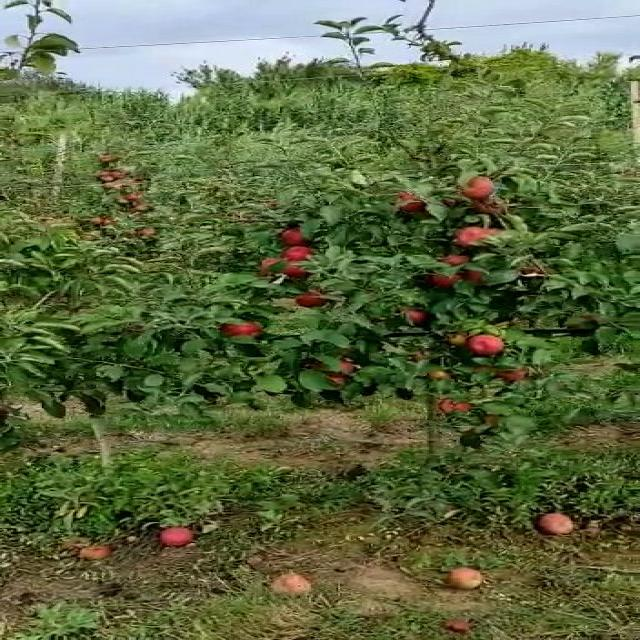100-_ripeness: (386, 191, 429, 214), (307, 359, 360, 376), (469, 334, 511, 355), (456, 225, 491, 250), (435, 267, 469, 292), (218, 319, 262, 337), (460, 175, 495, 197), (276, 229, 318, 247), (440, 397, 480, 415), (296, 290, 333, 306), (398, 310, 431, 327), (278, 249, 315, 264)
